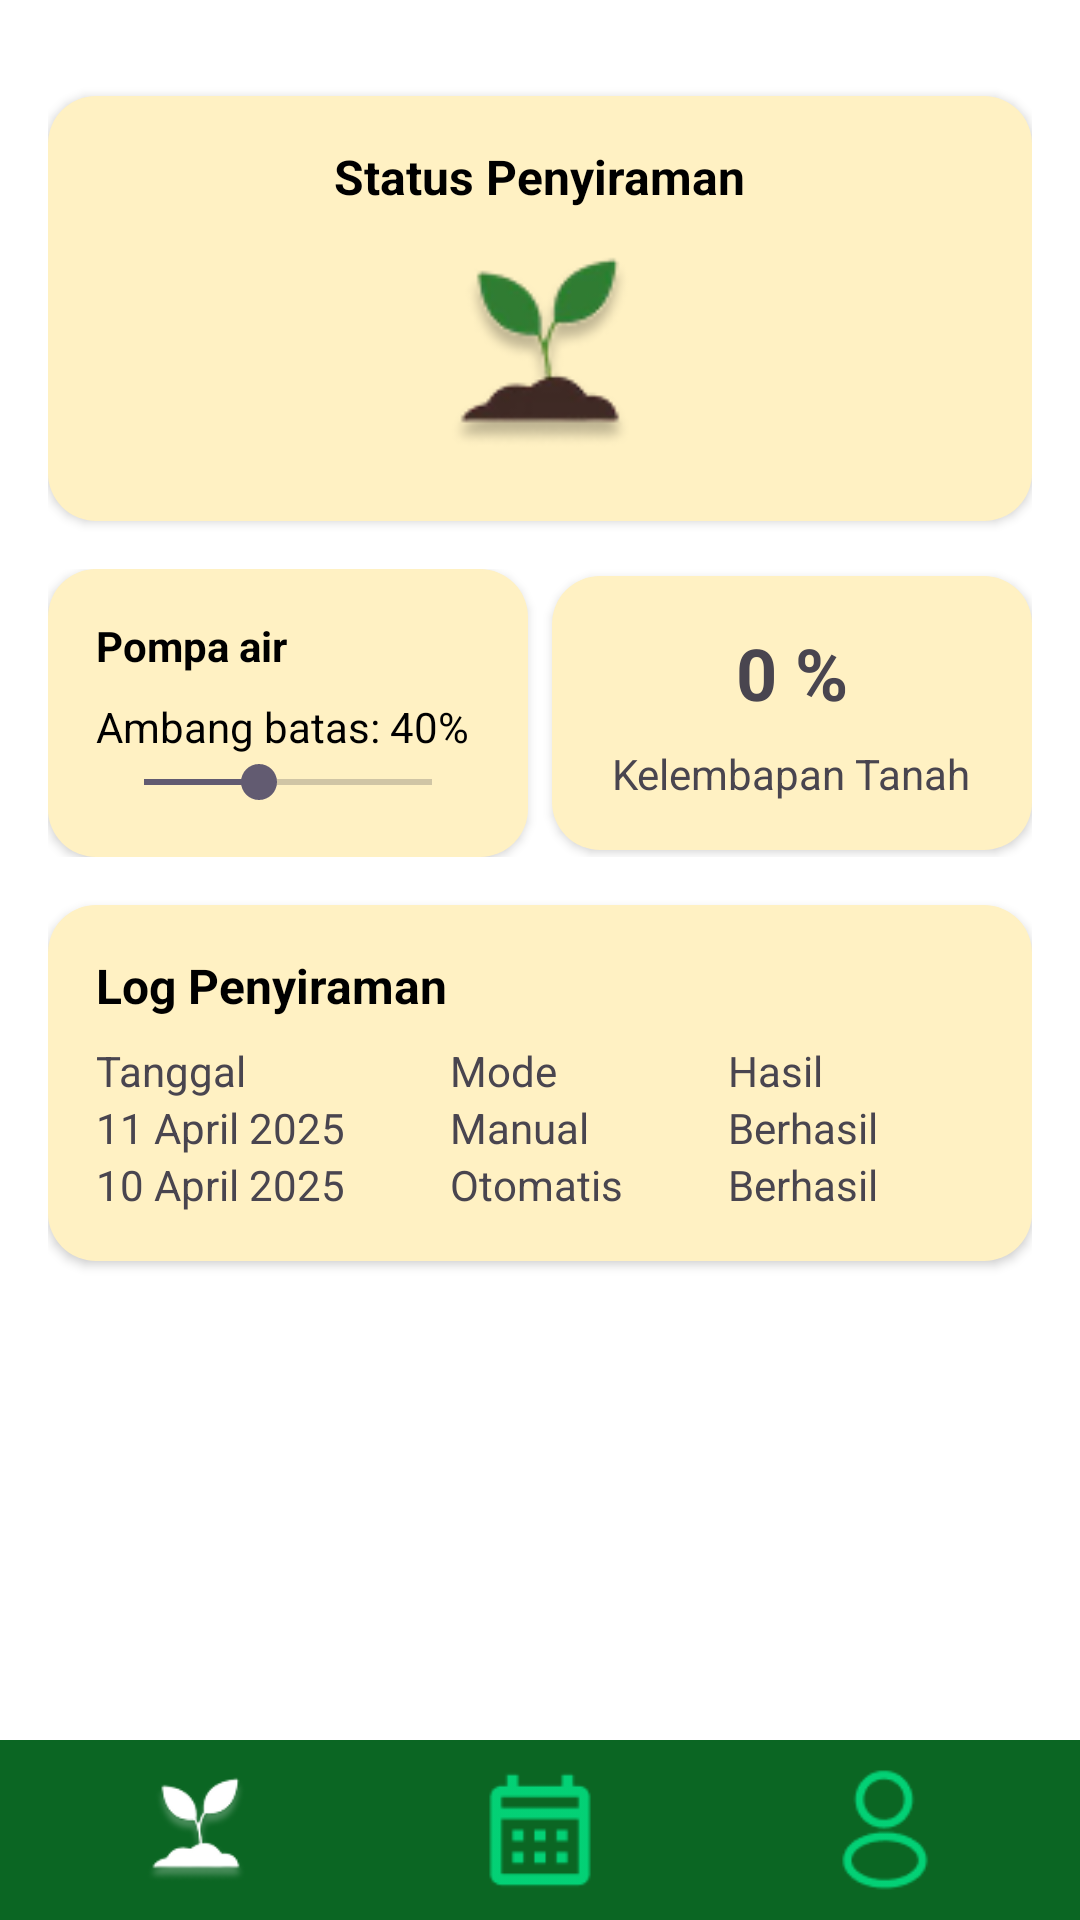

Point at icon controls on the screen. Image size 1080*1920, points as (x=x, y=y).
Calendar: (x=540, y=1830)
plant: (x=540, y=347)
Profile: (x=885, y=1829)
